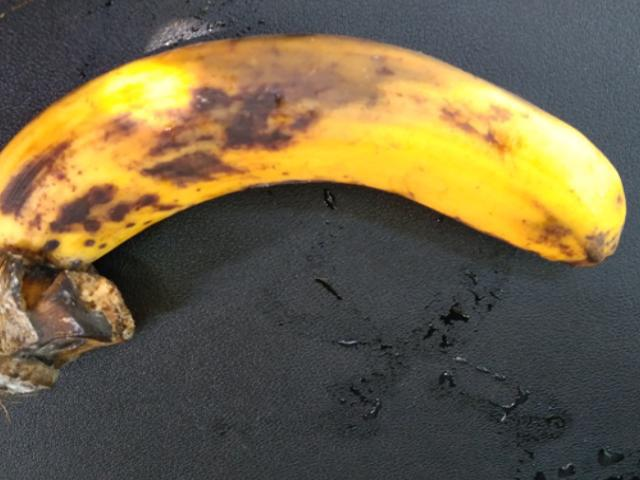overripe: (4, 33, 639, 281)
